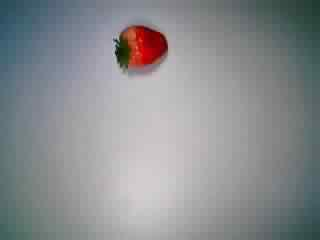strawberry: (107, 20, 173, 82)
